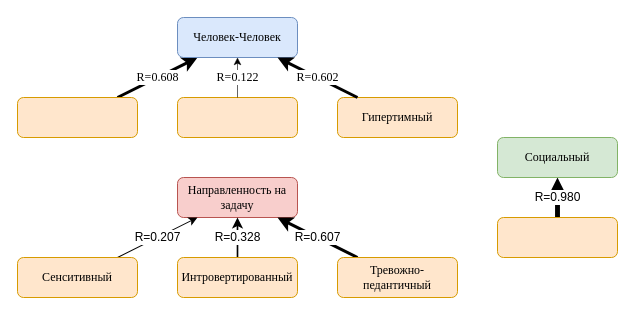
The diagram is 635 pixels wide and 324 high, and some of its shapes have lost their labels. The centre of each missing label's shape, as x and y in pixels:
"Возбудимый" belongs at (557,237).
"Демонстративный" belongs at (77,117).
"Циклоидный" belongs at (237,117).
